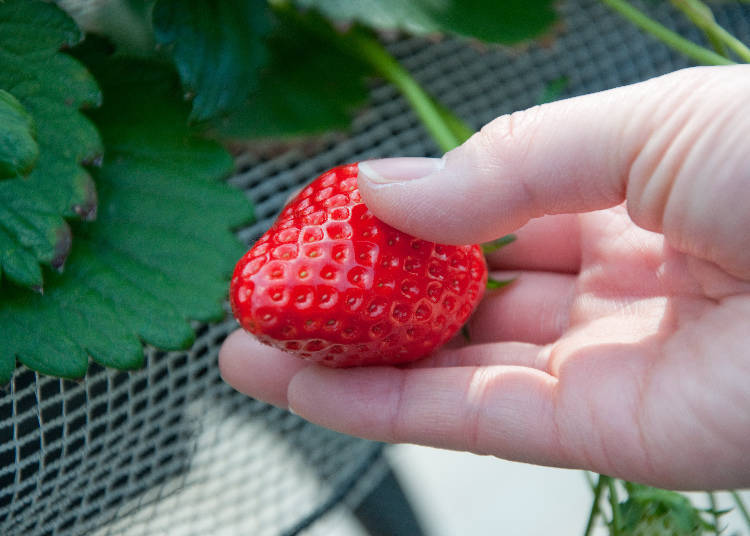ripe: (230, 141, 497, 373)
